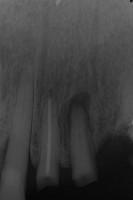Furcation Involvement: (65, 91, 92, 131)
